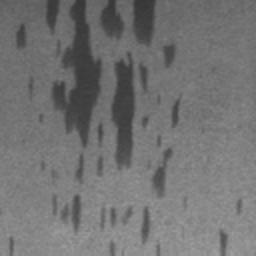Red iron sheet: (28, 0, 180, 182), (100, 206, 160, 256), (154, 136, 173, 193), (52, 195, 81, 230), (15, 23, 27, 49), (220, 232, 229, 256), (236, 201, 242, 214), (10, 238, 14, 256), (110, 242, 114, 255)
